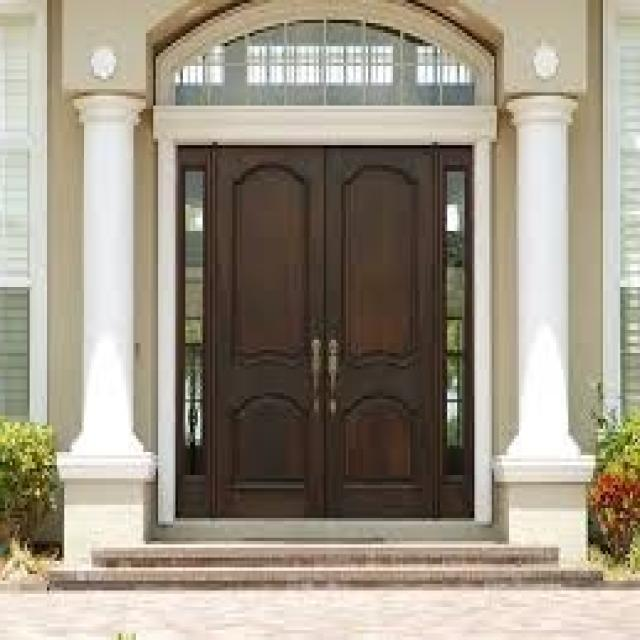door: (206, 143, 448, 520)
